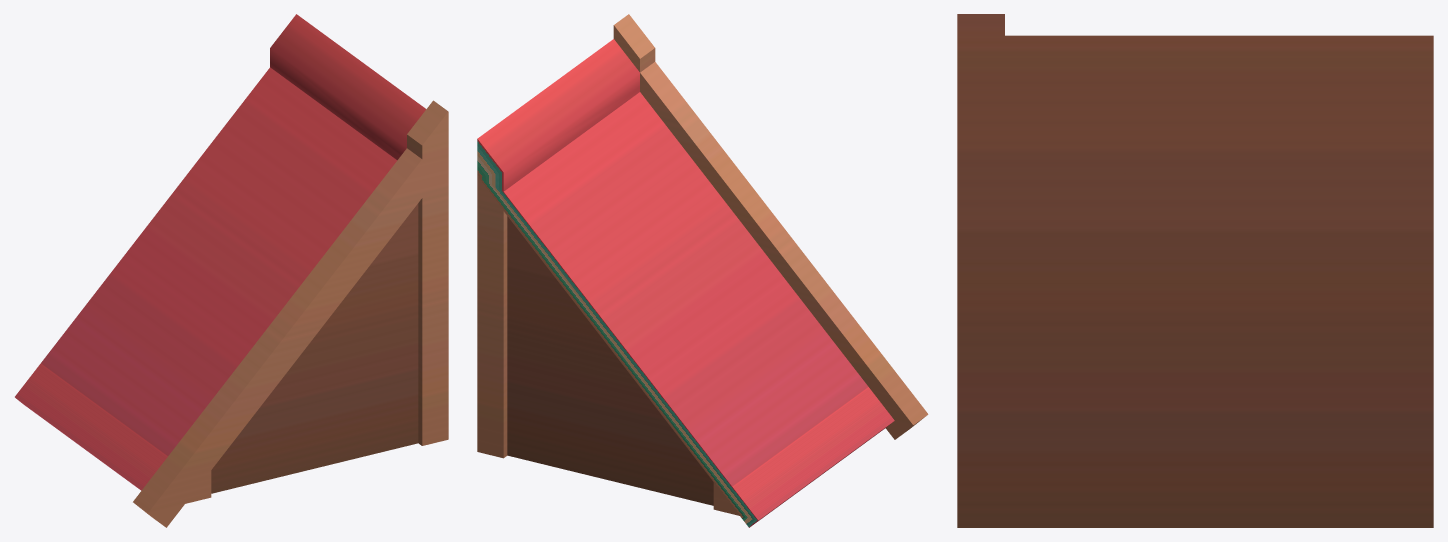
The model's file is roof-high-right.glb.
3 views of the same model, side by side, from view 1: azimuth 30°, elevation 25°; view 2: azimuth 150°, elevation 25°; view 3: azimuth 270°, elevation 25° (orthographic). The views are drawn at different scales.
Parts seen in each view (by area): view 1: roof-high-right; view 2: roof-high-right; view 3: roof-high-right.
Part boxes in pixels (<box>): roof-high-right: <box>15,14,448,527</box>; roof-high-right: <box>477,14,928,527</box>; roof-high-right: <box>957,14,1433,527</box>.
Bounding box in the file's own units: 1.14 × 1.26 × 1.
Materials: 1 (1 with a texture image).
